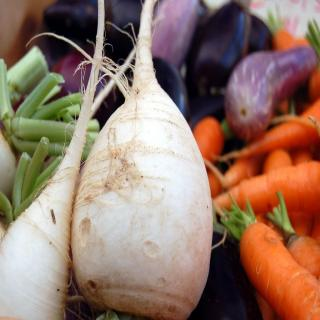Carrot: (193, 31, 320, 213), (220, 188, 320, 319)
